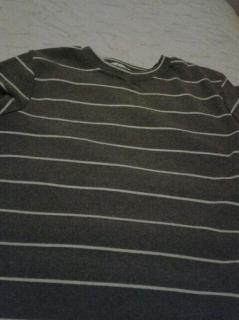short sleeve top: (0, 46, 239, 319)
